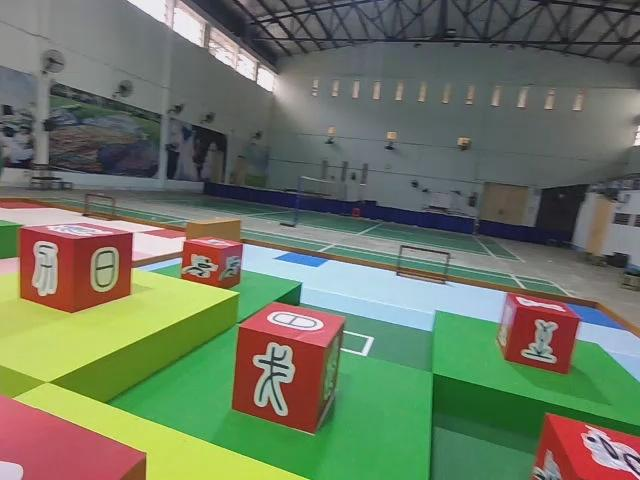R1: (525, 409, 640, 480), (180, 234, 244, 287)
R2 Fake: (234, 301, 347, 432), (19, 221, 134, 312)
R2 Real: (496, 294, 582, 373)
